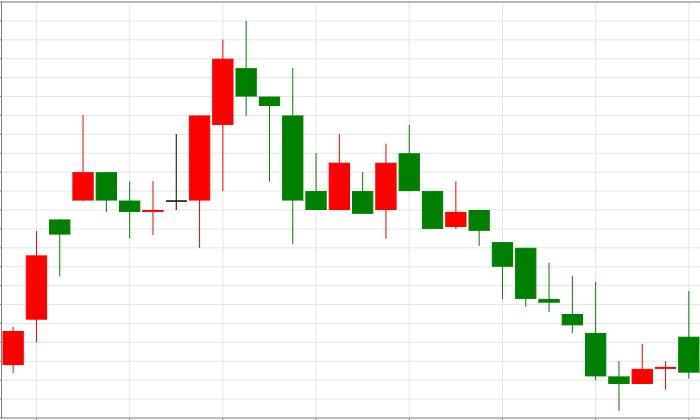shooting_star_fall: (2, 114, 94, 372)
